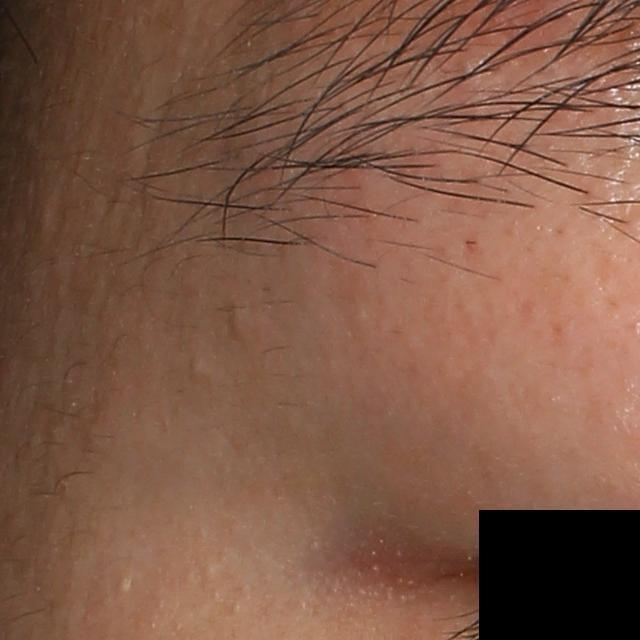comedo: (225, 307, 251, 339), (190, 355, 209, 375), (115, 578, 132, 594)
